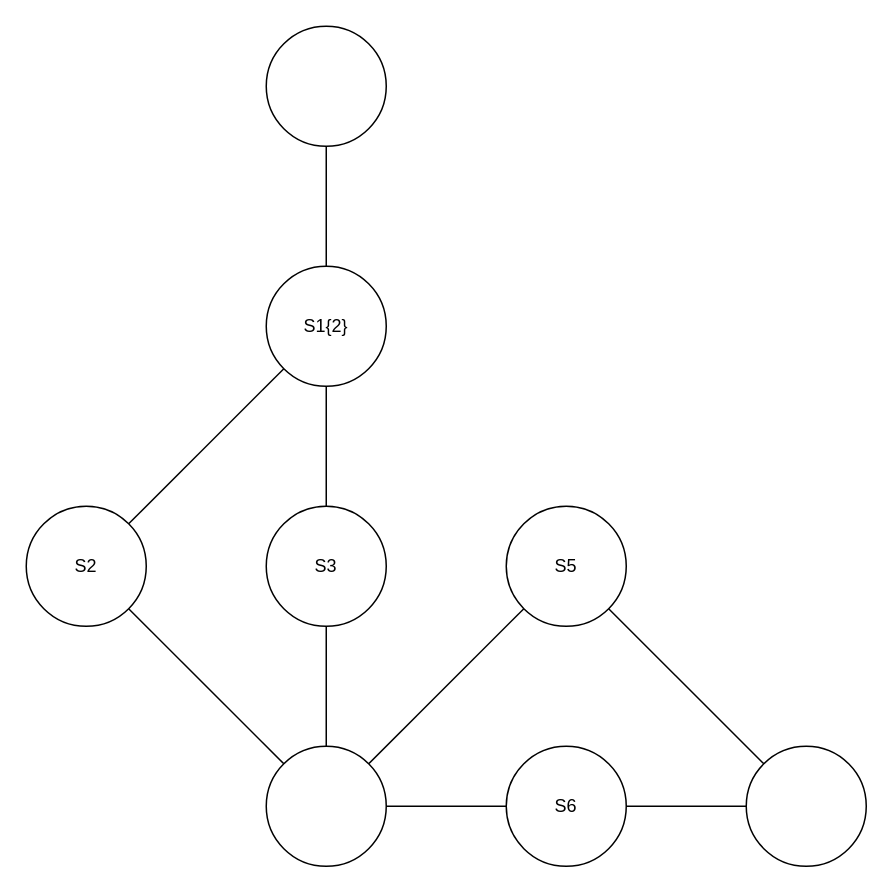
Image size: 893x893. Some labels were removed from this diagram. The box of each missing label's shape, as (x1, y1, x2, y2) in pixels:
S4{2}: (265, 745, 386, 866)
Sd{10}: (745, 745, 866, 866)
Sv{10}: (265, 25, 386, 146)
